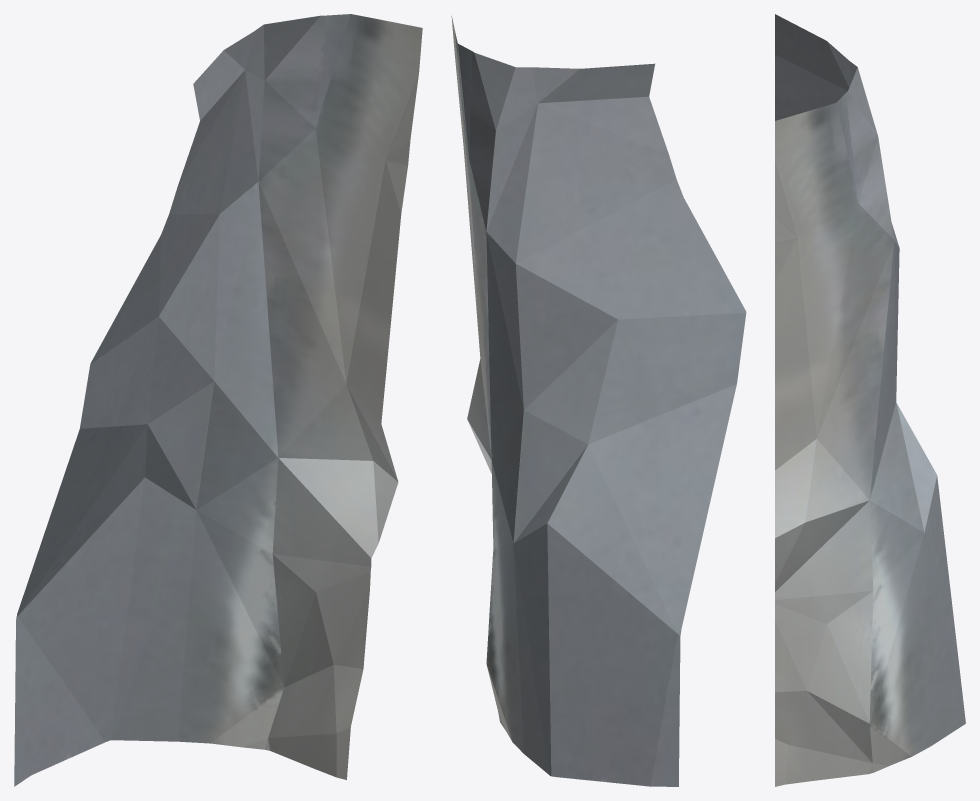
3 views of the same model, side by side, from view 1: azimuth 30°, elevation 25°; view 2: azimuth 150°, elevation 25°; view 3: azimuth 270°, elevation 25° (orthographic). The views are drawn at different scales.
Bounding box in the file's own units: 0.3968 × 0.8373 × 0.2066.
1 material, 1 textured.
